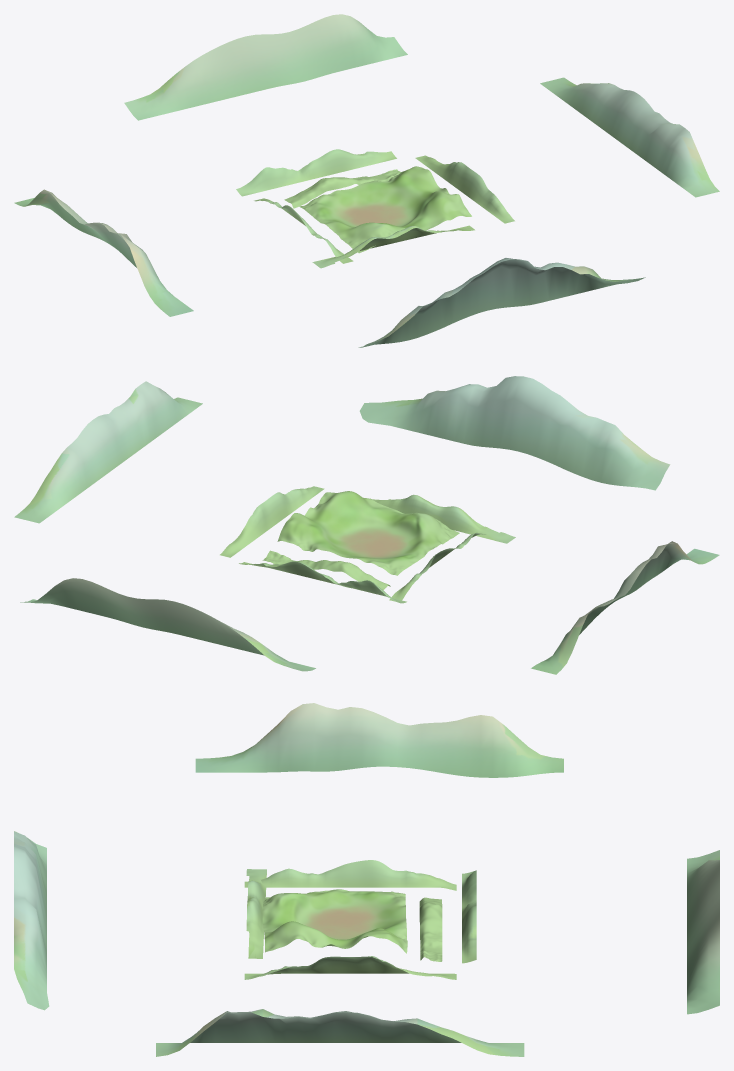
File: terrain.fbx
3 renders of one model, top to bottom at view 1: azimuth 30°, elevation 25°; view 2: azimuth 150°, elevation 25°; view 3: azimuth 270°, elevation 25°, orthographic. The views are drawn at different scales.
Parts seen in each view (by area): view 1: Landscape; view 2: Landscape; view 3: Landscape.
Part boxes in pixels (<box>): Landscape: <box>14,14,719,347</box>; Landscape: <box>14,376,719,674</box>; Landscape: <box>14,703,719,1056</box>.
Size of the model in its own units: 27453 by 3426 by 26638.
